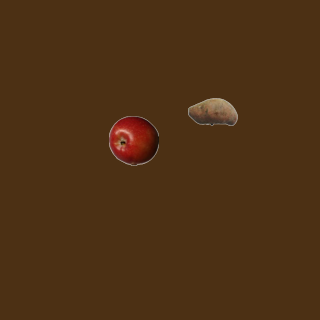Apple Braeburn: (108, 115, 158, 165)
Potato Sweet: (187, 86, 237, 136)
